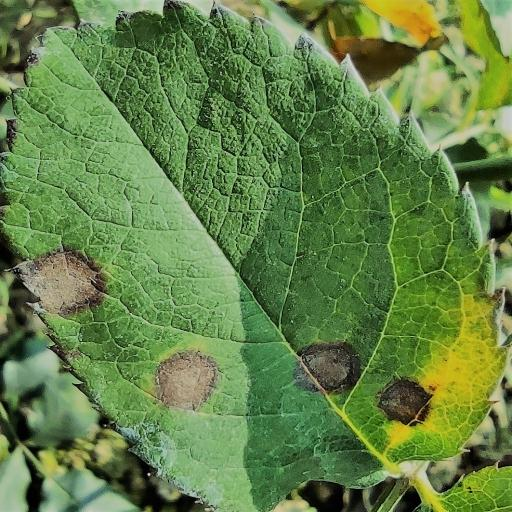black_spot: (0, 0, 506, 511)
